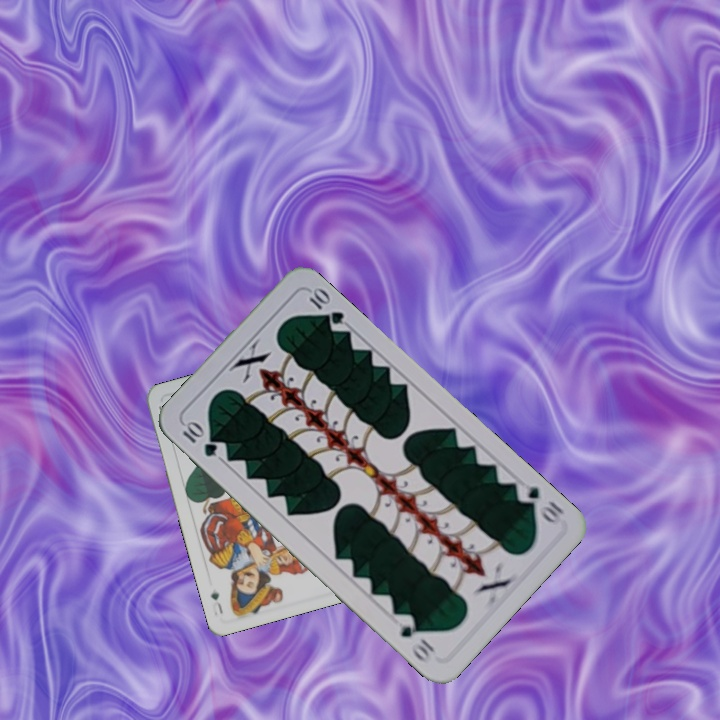G10: (512, 478, 567, 528), (178, 417, 220, 460)
